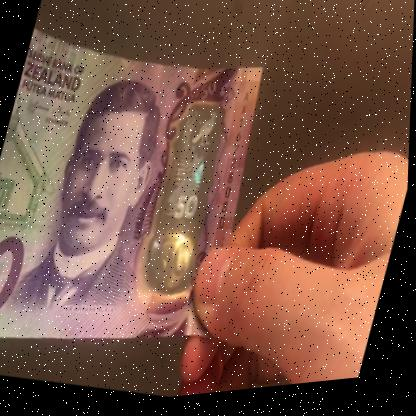50F: (138, 102, 235, 300)
